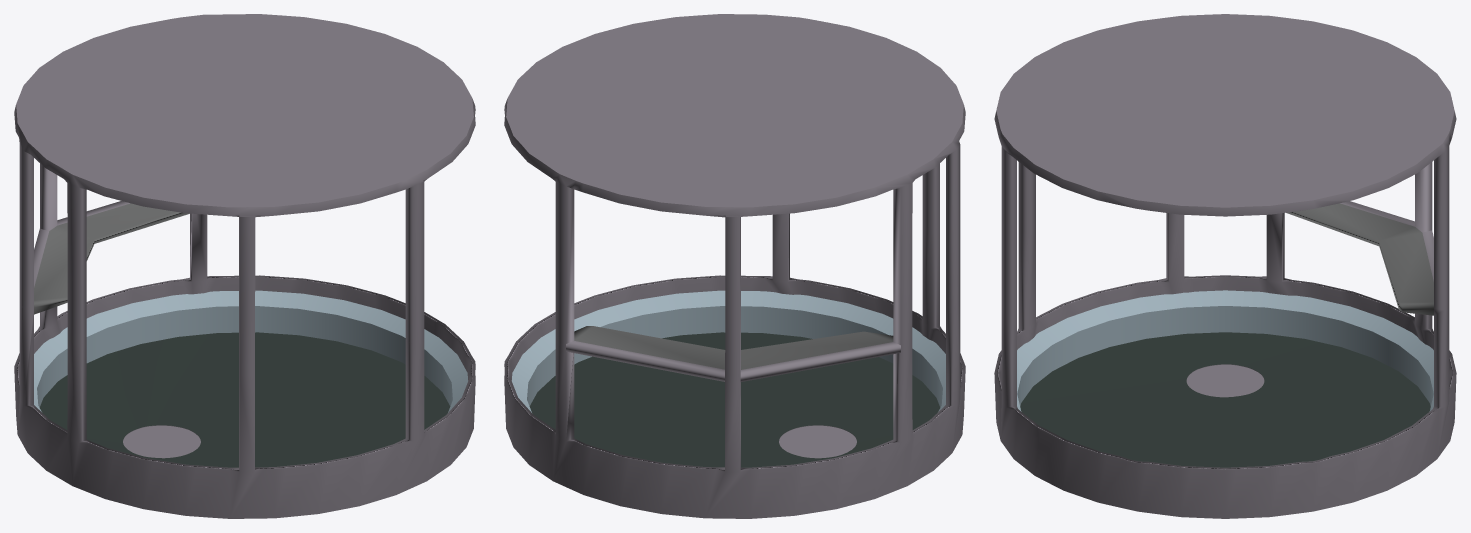
Rendered from room_2UV.fbx.
3 renders of one model, left to right at view 1: azimuth 30°, elevation 25°; view 2: azimuth 150°, elevation 25°; view 3: azimuth 270°, elevation 25°, orthographic.
Parts seen in each view (by area): view 1: room; view 2: room; view 3: room.
Part boxes in pixels (x1,y1,x2,y2): room: [14, 14, 475, 518]; room: [504, 14, 965, 518]; room: [994, 14, 1456, 518].
Size of the model in its own units: 412 by 306 by 412.
Materials: 1 (1 with a texture image).
